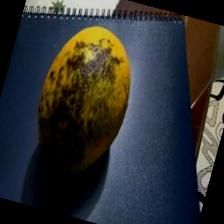Orange Rotten: (13, 5, 158, 196)
